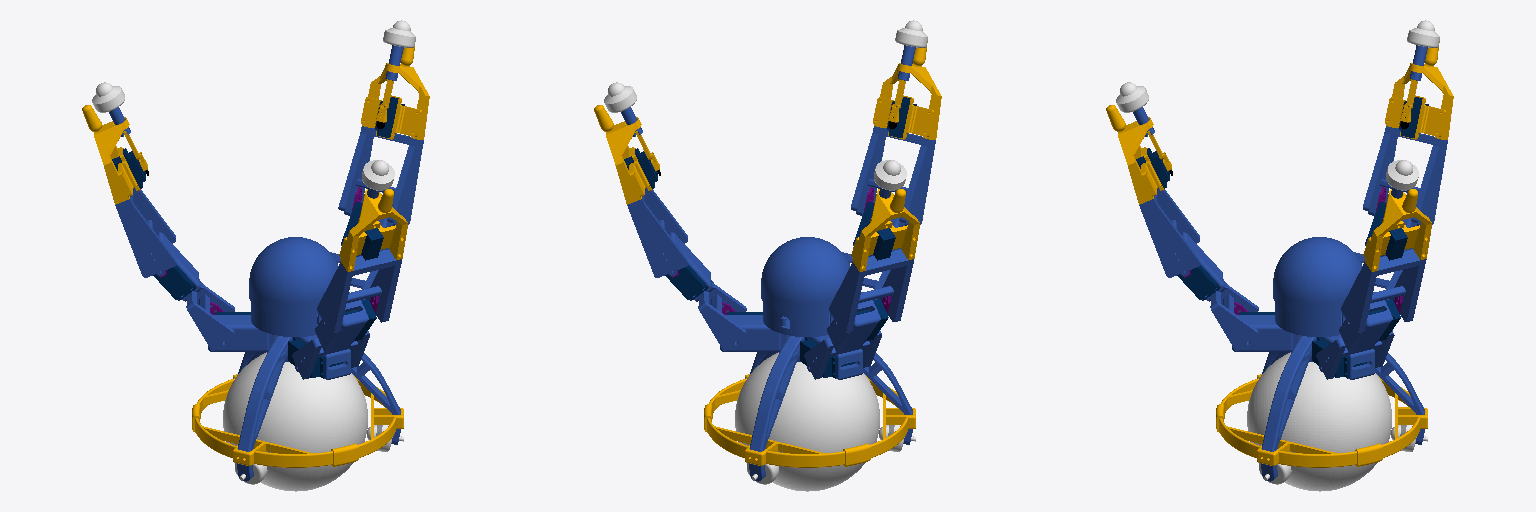
--- What the picture shows (computed from the rendered views, not written in the file) ---
The picture shows the robot from 3 angles, left to right: view 1: azimuth 30°, elevation 25°; view 2: azimuth 150°, elevation 25°; view 3: azimuth 270°, elevation 25°; orthographic projection.
Robot: skootr — 72 links, 71 joints (15 revolute, 4 continuous, 52 fixed); root link ball_root; default pose: all joints at 0.
Links seen in each view (by area): view 1: hemisphere_top, lid, leg2_link2_p1, leg3_link2_p1, leg1_link2_p1, third_ring, first_triconstraint, hemisphere_bottom, leg2_link2_p2, leg3_link1, third_servo_mount, electronics_platform (+13 smaller); view 2: hemisphere_top, lid, leg3_link2_p1, leg1_link2_p1, leg2_link2_p1, second_ring, third_triconstraint, hemisphere_bottom, leg3_link2_p2, leg1_link1, first_servo_mount, electronics_platform (+13 smaller); view 3: hemisphere_top, lid, leg1_link2_p1, leg2_link2_p1, leg3_link2_p1, first_ring, second_triconstraint, hemisphere_bottom, leg1_link2_p2, leg2_link1, second_servo_mount, electronics_platform (+13 smaller).
Link boxes in pixels (bbox=[...]): hemisphere_top: bbox=[223, 352, 367, 449]; lid: bbox=[249, 237, 338, 315]; leg2_link2_p1: bbox=[317, 249, 401, 333]; leg3_link2_p1: bbox=[115, 187, 175, 277]; leg1_link2_p1: bbox=[338, 126, 423, 225]; third_ring: bbox=[195, 418, 332, 467]; first_triconstraint: bbox=[237, 336, 292, 481]; hemisphere_bottom: bbox=[223, 423, 367, 491]; leg2_link2_p2: bbox=[340, 189, 407, 271]; leg3_link1: bbox=[186, 284, 234, 350]; third_servo_mount: bbox=[208, 315, 276, 351]; electronics_platform: bbox=[251, 303, 321, 336]; hemisphere_top: bbox=[735, 352, 879, 449]; lid: bbox=[761, 237, 850, 315]; leg3_link2_p1: bbox=[829, 249, 913, 333]; leg1_link2_p1: bbox=[627, 187, 687, 277]; leg2_link2_p1: bbox=[851, 126, 935, 225]; second_ring: bbox=[707, 418, 844, 467]; third_triconstraint: bbox=[749, 336, 804, 481]; hemisphere_bottom: bbox=[735, 423, 879, 491]; leg3_link2_p2: bbox=[852, 189, 919, 271]; leg1_link1: bbox=[698, 285, 746, 350]; first_servo_mount: bbox=[720, 315, 788, 351]; electronics_platform: bbox=[763, 303, 833, 336]; hemisphere_top: bbox=[1247, 352, 1391, 449]; lid: bbox=[1273, 237, 1362, 315]; leg1_link2_p1: bbox=[1341, 249, 1426, 333]; leg2_link2_p1: bbox=[1139, 187, 1199, 277]; leg3_link2_p1: bbox=[1363, 126, 1447, 225]; first_ring: bbox=[1219, 418, 1356, 467]; second_triconstraint: bbox=[1261, 336, 1316, 481]; hemisphere_bottom: bbox=[1247, 422, 1391, 491]; leg1_link2_p2: bbox=[1365, 189, 1431, 271]; leg2_link1: bbox=[1210, 284, 1258, 350]; second_servo_mount: bbox=[1232, 315, 1300, 351]; electronics_platform: bbox=[1275, 303, 1345, 336].
Bounding box of the posed robot: 0.511 × 0.4789 × 0.6021 m (x, y, z).
71 mesh visuals loaded from 24 distinct referenced files (24 binary STL).

The robot description file, URDF, robot "skootr":
<?xml version="1.0" ?>
<!-- =================================================================================== -->
<!-- |    This document was autogenerated by xacro from ./src/skootr_description/urdf/skootr.xacro | -->
<!-- |    EDITING THIS FILE BY HAND IS NOT RECOMMENDED                                 | -->
<!-- =================================================================================== -->
<robot name="skootr">
  <!-- Declare colors -->
  <material name="skootr_blue">
    <color rgba="0.231 0.380 0.706 1.0"/>
  </material>
  <material name="skootr_yellow">
    <color rgba="0.980 0.714 0.004 1.0"/>
  </material>
  <material name="skootr_silver">
    <color rgba="0.9176 0.9176 0.9176 1.0"/>
  </material>
  <material name="servo_blue">
    <color rgba="0.043 0.216 0.404 1.0"/>
  </material>
  <material name="horn_purple">
    <color rgba="0.490 0.086 0.557 1.0"/>
  </material>
  <link name="ball_root">
    <origin rpy="0.0 0.0 0.0" xyz="0.0 0.0 0.0"/>
    <inertial>
      <origin xyz="0.0 0.0 0.0" rpy="0.0 0.0 0.0"/>
      <mass value="0.00001"/>
      <inertia ixx="0.0" ixy="0.0" ixz="0.0" iyy="0.0" iyz="0.0" izz="0.0"/>
    </inertial>
    
  </link>
  <link name="ball_connector">
    <visual>
      <geometry>
        <mesh filename="meshes/frame/hemisphere_connector.stl" scale="0.001 0.001 0.001"/>
      </geometry>
    </visual>
    <collision>
      <geometry>
        <mesh filename="meshes/frame/hemisphere_connector.stl" scale="0.001 0.001 0.001"/>
      </geometry>
    </collision>
    <inertial>
      <origin rpy="0 0 0" xyz="0 -0.01951 0"/>
      <mass value="0.09480"/>
      <inertia ixx="2.64e-05" ixy="0" ixz="0" iyy="2.93e-05" iyz="0" izz="2.64e-05"/>
    </inertial>
  </link>
  <!-- joining ball_connector to dummy link -->
  <joint name="root_to_connector" type="continuous">
    <origin rpy="1.5707963267948966 0 0" xyz="0.0 0.0 0.0195"/>
    <parent link="ball_root"/>
    <child link="ball_connector"/>
    <axis xyz="1.0 1.0 1.0"/>
  </joint>
  <!-- top hemisphere -->
  <link name="hemisphere_top">
    <visual>
      <geometry>
        <mesh filename="meshes/frame/hemisphere.stl" scale="0.001 0.001 0.001"/>
      </geometry>
      <material name="skootr_silver"/>
    </visual>
    <collision>
      <geometry>
        <mesh filename="meshes/frame/hemisphere.stl" scale="0.001 0.001 0.001"/>
      </geometry>
    </collision>
    <inertial>
      <origin rpy="0 0 0" xyz="0 0.038176 0"/>
      <mass value="0.5179"/>
      <inertia ixx="0.0067228" ixy="0" ixz="0" iyy="0.0104325" iyz="0" izz="0.0067210"/>
    </inertial>
  </link>
  <link name="hemisphere_bottom">
    <visual>
      <geometry>
        <mesh filename="meshes/frame/hemisphere.stl" scale="0.001 0.001 0.001"/>
      </geometry>
      <material name="skootr_silver"/>
    </visual>
    <collision>
      <geometry>
        <mesh filename="meshes/frame/hemisphere.stl" scale="0.001 0.001 0.001"/>
      </geometry>
    </collision>
    <inertial>
      <origin rpy="0 0 0" xyz="0 0.038176 0"/>
      <mass value="0.5179"/>
      <inertia ixx="0.0067228" ixy="0" ixz="0" iyy="0.0104325" iyz="0" izz="0.0067210"/>
    </inertial>
  </link>
  <joint name="connector_to_top" type="fixed">
    <parent link="ball_connector"/>
    <child link="hemisphere_top"/>
    <origin rpy="0 0 0" xyz="0 -0.0195 0"/>
  </joint>
  <joint name="connector_to_bottom" type="fixed">
    <parent link="ball_connector"/>
    <child link="hemisphere_bottom"/>
    <origin rpy="3.14159265 0 0" xyz="0 -0.0195 0"/>
  </joint>
  <!-- ring constraint -->
  <link name="first_ring" type="fixed">
    <visual>
      <geometry>
        <mesh filename="meshes/frame/ringconstraint.stl" scale="0.001 0.001 0.001"/>
      </geometry>
      <material name="skootr_yellow"/>
    </visual>
    <collision>
      <geometry>
        <mesh filename="meshes/frame/ringconstraint.stl" scale="0.001 0.001 0.001"/>
      </geometry>
    </collision>
    <inertial>
      <origin rpy="0 0 0" xyz="0.09911 -0.05723 0.01130"/>
      <mass value="0.05080"/>
      <inertia ixx="1.62e-04" ixy="-8.22e-05" ixz="2.93e-07" iyy="6.64e-05" iyz="-2.93e-07" izz="2.25e-04"/>
    </inertial>
  </link>
  <link name="first_constraint_connector" type="fixed">
    <visual>
      <geometry>
        <mesh filename="meshes/frame/ringconstraint_connector.stl" scale="0.001 0.001 0.001"/>
      </geometry>
      <material name="skootr_yellow"/>
    </visual>
    <collision>
      <geometry>
        <mesh filename="meshes/frame/ringconstraint_connector.stl" scale="0.001 0.001 0.001"/>
      </geometry>
    </collision>
    <inertial>
      <origin rpy="0 0 0" xyz="0.1193 0.0678 0.0100"/>
      <mass value="0.00816"/>
      <!-- Converted from 0.018 lb to kg -->
      <inertia ixx="1.1663e-07" ixy="2.9155e-08" ixz="5.5703e-15" iyy="8.7475e-08" iyz="-6.9847e-15" izz="8.7475e-08"/>
    </inertial>
  </link>
  <link name="first_triconstraint" type="fixed">
    <visual>
      <geometry>
        <mesh filename="meshes/frame/triconstraint.stl" scale="0.001 0.001 0.001"/>
      </geometry>
      <material name="skootr_blue"/>
    </visual>
    <collision>
      <geometry>
        <mesh filename="meshes/frame/triconstraint.stl" scale="0.001 0.001 0.001"/>
      </geometry>
    </collision>
    <inertial>
      <origin rpy="0 0 0" xyz="-92.433 -4.332e-5 66.87"/>
      <mass value="0.06304"/>
      <!-- Converted from 0.139 lb to kg -->
      <inertia ixx="1.4480e-05" ixy="-7.4132e-10" ixz="-1.1539e-05" iyy="2.8523e-05" iyz="-8.5296e-10" izz="1.1518e-05"/>
    </inertial>
  </link>
  <link name="second_ring" type="fixed">
    <visual>
      <geometry>
        <mesh filename="meshes/frame/ringconstraint.stl" scale="0.001 0.001 0.001"/>
      </geometry>
      <material name="skootr_yellow"/>
    </visual>
    <collision>
      <geometry>
        <mesh filename="meshes/frame/ringconstraint.stl" scale="0.001 0.001 0.001"/>
      </geometry>
    </collision>
    <inertial>
      <origin rpy="0 0 0" xyz="0.09911 -0.05723 0.01130"/>
      <mass value="0.05080"/>
      <inertia ixx="1.62e-04" ixy="-8.22e-05" ixz="2.93e-07" iyy="6.64e-05" iyz="-2.93e-07" izz="2.25e-04"/>
    </inertial>
  </link>
  <link name="second_constraint_connector" type="fixed">
    <visual>
      <geometry>
        <mesh filename="meshes/frame/ringconstraint_connector.stl" scale="0.001 0.001 0.001"/>
      </geometry>
      <material name="skootr_yellow"/>
    </visual>
    <collision>
      <geometry>
        <mesh filename="meshes/frame/ringconstraint_connector.stl" scale="0.001 0.001 0.001"/>
      </geometry>
    </collision>
    <inertial>
      <origin rpy="0 0 0" xyz="0.1193 0.0678 0.0100"/>
      <mass value="0.00816"/>
      <!-- Converted from 0.018 lb to kg -->
      <inertia ixx="1.1663e-07" ixy="2.9155e-08" ixz="5.5703e-15" iyy="8.7475e-08" iyz="-6.9847e-15" izz="8.7475e-08"/>
    </inertial>
  </link>
  <link name="second_triconstraint" type="fixed">
    <visual>
      <geometry>
        <mesh filename="meshes/frame/triconstraint.stl" scale="0.001 0.001 0.001"/>
      </geometry>
      <material name="skootr_blue"/>
    </visual>
    <collision>
      <geometry>
        <mesh filename="meshes/frame/triconstraint.stl" scale="0.001 0.001 0.001"/>
      </geometry>
    </collision>
    <inertial>
      <origin rpy="0 0 0" xyz="-92.433 -4.332e-5 66.87"/>
      <mass value="0.06304"/>
      <!-- Converted from 0.139 lb to kg -->
      <inertia ixx="1.4480e-05" ixy="-7.4132e-10" ixz="-1.1539e-05" iyy="2.8523e-05" iyz="-8.5296e-10" izz="1.1518e-05"/>
    </inertial>
  </link>
  <link name="third_ring" type="fixed">
    <visual>
      <geometry>
        <mesh filename="meshes/frame/ringconstraint.stl" scale="0.001 0.001 0.001"/>
      </geometry>
      <material name="skootr_yellow"/>
    </visual>
    <collision>
      <geometry>
        <mesh filename="meshes/frame/ringconstraint.stl" scale="0.001 0.001 0.001"/>
      </geometry>
    </collision>
    <inertial>
      <origin rpy="0 0 0" xyz="0.09911 -0.05723 0.01130"/>
      <mass value="0.05080"/>
      <inertia ixx="1.62e-04" ixy="-8.22e-05" ixz="2.93e-07" iyy="6.64e-05" iyz="-2.93e-07" izz="2.25e-04"/>
    </inertial>
  </link>
  <link name="third_constraint_connector" type="fixed">
    <visual>
      <geometry>
        <mesh filename="meshes/frame/ringconstraint_connector.stl" scale="0.001 0.001 0.001"/>
      </geometry>
      <material name="skootr_yellow"/>
    </visual>
    <collision>
      <geometry>
        <mesh filename="meshes/frame/ringconstraint_connector.stl" scale="0.001 0.001 0.001"/>
      </geometry>
    </collision>
    <inertial>
      <origin rpy="0 0 0" xyz="0.1193 0.0678 0.0100"/>
      <mass value="0.00816"/>
      <!-- Converted from 0.018 lb to kg -->
      <inertia ixx="1.1663e-07" ixy="2.9155e-08" ixz="5.5703e-15" iyy="8.7475e-08" iyz="-6.9847e-15" izz="8.7475e-08"/>
    </inertial>
  </link>
  <link name="third_triconstraint" type="fixed">
    <visual>
      <geometry>
        <mesh filename="meshes/frame/triconstraint.stl" scale="0.001 0.001 0.001"/>
      </geometry>
      <material name="skootr_blue"/>
    </visual>
    <collision>
      <geometry>
        <mesh filename="meshes/frame/triconstraint.stl" scale="0.001 0.001 0.001"/>
      </geometry>
    </collision>
    <inertial>
      <origin rpy="0 0 0" xyz="-92.433 -4.332e-5 66.87"/>
      <mass value="0.06304"/>
      <!-- Converted from 0.139 lb to kg -->
      <inertia ixx="1.4480e-05" ixy="-7.4132e-10" ixz="-1.1539e-05" iyy="2.8523e-05" iyz="-8.5296e-10" izz="1.1518e-05"/>
    </inertial>
  </link>
  <link name="triconstraint_hub" type="fixed">
    <visual>
      <geometry>
        <mesh filename="meshes/frame/triconstraint_hub.stl" scale="0.001 0.001 0.001"/>
      </geometry>
      <material name="skootr_blue"/>
    </visual>
    <collision>
      <geometry>
        <mesh filename="meshes/frame/triconstraint_hub.stl" scale="0.001 0.001 0.001"/>
      </geometry>
    </collision>
    <inertial>
      <origin rpy="0 0 0" xyz="-5.567e-6 4.586e-6 0.147149"/>
      <mass value="0.02812"/>
      <!-- Converted from 0.062 lb to kg -->
      <inertia ixx="6.5828e-06" ixy="1.6232e-09" ixz="-1.0979e-09" iyy="6.5828e-06" iyz="8.1455e-10" izz="1.3122e-05"/>
    </inertial>
  </link>
  <joint name="first_ring_to_ball" type="fixed">
    <origin rpy="0.0 0.0 0.0" xyz="0.0 0.0 -0.00975"/>
    <parent link="ball_root"/>
    <child link="first_ring"/>
  </joint>
  <joint name="first_ring_to_connector" type="fixed">
    <origin rpy="0.0 0.0 0.0" xyz="0.0 0.0 -0.00975"/>
    <parent link="ball_root"/>
    <child link="first_constraint_connector"/>
  </joint>
  <joint name="first_triconstraint_to_connector" type="fixed">
    <origin rpy="0.0 0.0 0.5235987755982988" xyz="0.0 0.0 0.00975"/>
    <parent link="first_ring"/>
    <child link="first_triconstraint"/>
  </joint>
  <joint name="second_ring_to_ball" type="fixed">
    <origin rpy="0.0 0.0 2.0943951023931953" xyz="0.0 0.0 -0.00975"/>
    <parent link="ball_root"/>
    <child link="second_ring"/>
  </joint>
  <joint name="second_ring_to_connector" type="fixed">
    <origin rpy="0.0 0.0 2.0943951023931953" xyz="0.0 0.0 -0.00975"/>
    <parent link="ball_root"/>
    <child link="second_constraint_connector"/>
  </joint>
  <joint name="second_triconstraint_to_connector" type="fixed">
    <origin rpy="0.0 0.0 0.5235987755982988" xyz="0.0 0.0 0.00975"/>
    <parent link="second_ring"/>
    <child link="second_triconstraint"/>
  </joint>
  <joint name="third_ring_to_ball" type="fixed">
    <origin rpy="0.0 0.0 4.1887902047863905" xyz="0.0 0.0 -0.00975"/>
    <parent link="ball_root"/>
    <child link="third_ring"/>
  </joint>
  <joint name="third_ring_to_connector" type="fixed">
    <origin rpy="0.0 0.0 4.1887902047863905" xyz="0.0 0.0 -0.00975"/>
    <parent link="ball_root"/>
    <child link="third_constraint_connector"/>
  </joint>
  <joint name="third_triconstraint_to_connector" type="fixed">
    <origin rpy="0.0 0.0 0.5235987755982988" xyz="0.0 0.0 0.00975"/>
    <parent link="third_ring"/>
    <child link="third_triconstraint"/>
  </joint>
  <joint name="triconstraints_to_hub" type="fixed">
    <origin rpy="0.0 0.0 0.5235987755982988" xyz="0.0 0.0 0.0"/>
    <parent link="ball_root"/>
    <child link="triconstraint_hub"/>
  </joint>
  <link name="metal_bearing">
    <visual>
      <geometry>
        <mesh filename="meshes/non_printed/metal_bearing.stl" scale="0.001 0.001 0.001"/>
      </geometry>
      <material name="skootr_silver"/>
    </visual>
    <collision>
      <geometry>
        <mesh filename="meshes/non_printed/metal_bearing.stl" scale="0.001 0.001 0.001"/>
      </geometry>
    </collision>
    <inertial>
      <origin rpy="0 0 0" xyz="0 0.01198 0"/>
      <mass value="0.0957"/>
      <!-- Converted from 0.211 lb to kg -->
      <inertia ixx="1.629e-05" ixy="0" ixz="0" iyy="1.979e-05" iyz="0" izz="1.629e-05"/>
    </inertial>
  </link>
  <link name="first_metal_bearing">
    <visual>
      <geometry>
        <mesh filename="meshes/non_printed/metal_bearing.stl" scale="0.001 0.001 0.001"/>
      </geometry>
      <material name="skootr_silver"/>
    </visual>
    <collision>
      <geometry>
        <mesh filename="meshes/non_printed/metal_bearing.stl" scale="0.001 0.001 0.001"/>
      </geometry>
    </collision>
    <inertial>
      <origin rpy="0 0 0" xyz="0 0.01198 0"/>
      <mass value="0.0957"/>
      <!-- Converted from 0.211 lb to kg -->
      <inertia ixx="1.629e-05" ixy="0" ixz="0" iyy="1.979e-05" iyz="0" izz="1.629e-05"/>
    </inertial>
  </link>
  <link name="second_metal_bearing">
    <visual>
      <geometry>
        <mesh filename="meshes/non_printed/metal_bearing.stl" scale="0.001 0.001 0.001"/>
      </geometry>
      <material name="skootr_silver"/>
    </visual>
    <collision>
      <geometry>
        <mesh filename="meshes/non_printed/metal_bearing.stl" scale="0.001 0.001 0.001"/>
      </geometry>
    </collision>
    <inertial>
      <origin rpy="0 0 0" xyz="0 0.01198 0"/>
      <mass value="0.0957"/>
      <!-- Converted from 0.211 lb to kg -->
      <inertia ixx="1.629e-05" ixy="0" ixz="0" iyy="1.979e-05" iyz="0" izz="1.629e-05"/>
    </inertial>
  </link>
  <link name="third_metal_bearing">
    <visual>
      <geometry>
        <mesh filename="meshes/non_printed/metal_bearing.stl" scale="0.001 0.001 0.001"/>
      </geometry>
      <material name="skootr_silver"/>
    </visual>
    <collision>
      <geometry>
        <mesh filename="meshes/non_printed/metal_bearing.stl" scale="0.001 0.001 0.001"/>
      </geometry>
    </collision>
    <inertial>
      <origin rpy="0 0 0" xyz="0 0.01198 0"/>
      <mass value="0.0957"/>
      <!-- Converted from 0.211 lb to kg -->
      <inertia ixx="1.629e-05" ixy="0" ixz="0" iyy="1.979e-05" iyz="0" izz="1.629e-05"/>
    </inertial>
  </link>
  <link name="servo_hub_bottom" type="fixed">
    <visual>
      <geometry>
        <mesh filename="meshes/frame/servo_hub_bottom.stl" scale="0.001 0.001 0.001"/>
      </geometry>
      <material name="skootr_blue"/>
    </visual>
    <collision>
      <geometry>
        <mesh filename="meshes/frame/servo_hub_bottom.stl" scale="0.001 0.001 0.001"/>
      </geometry>
    </collision>
    <inertial>
      <origin rpy="0 0 0" xyz="0 0 0.005"/>
      <mass value="0.03447"/>
      <!-- Converted from 0.076 lb to kg -->
      <inertia ixx="1.858e-05" ixy="0" ixz="0" iyy="1.858e-05" iyz="0" izz="3.690e-05"/>
    </inertial>
  </link>
  <joint name="hub_to_bearing" type="fixed">
    <origin rpy="-1.5707963267948966 0.0 0.0" xyz="0.0 0.0 0.138835"/>
    <parent link="triconstraint_hub"/>
    <child link="metal_bearing"/>
  </joint>
  <joint name="first_triconstraint_to_bearing" type="fixed">
    <origin rpy="0.20 0.0 -1.5707963267948966" xyz="-0.1322 0.0 -0.0274574"/>
    <parent link="first_triconstraint"/>
    <child link="first_metal_bearing"/>
  </joint>
  <joint name="second_triconstraint_to_bearing" type="fixed">
    <origin rpy="0.20 0.0 -1.5707963267948966" xyz="-0.1322 0.0 -0.0274574"/>
    <parent link="second_triconstraint"/>
    <child link="second_metal_bearing"/>
  </joint>
  <joint name="third_triconstraint_to_bearing" type="fixed">
    <origin rpy="0.20 0.0 -1.5707963267948966" xyz="-0.1322 0.0 -0.0274574"/>
    <parent link="third_triconstraint"/>
    <child link="third_metal_bearing"/>
  </joint>
  <joint name="triconstraint_to_bottomhubs" type="fixed">
    <origin rpy="0.0 0.0 0.0" xyz="0.0 0.0 0.103912"/>
    <parent link="first_triconstraint"/>
    <child link="servo_hub_bottom"/>
  </joint>
  <!-- Servo -->
  <link name="first_servo">
    <visual>
      <geometry>
        <mesh filename="meshes/non_printed/60_kg_servo.stl" scale="0.001 0.001 0.001"/>
      </geometry>
      <material name="servo_blue"/>
    </visual>
    <collision>
      <geometry>
        <mesh filename="meshes/non_printed/60_kg_servo.stl" scale="0.001 0.001 0.001"/>
      </geometry>
    </collision>
    <inertial>
      <origin rpy="0 0 0" xyz="2.7e-5 0 2.02e-4"/>
      <mass value="0.2577"/>
      <!-- Converted from 0.568 lb to kg -->
      <inertia ixx="6.3523e-05" ixy="0" ixz="-1.7854e-07" iyy="1.3415e-04" iyz="0" izz="1.1411e-04"/>
    </inertial>
  </link>
  <link name="second_servo">
    <visual>
      <geometry>
        <mesh filename="meshes/non_printed/60_kg_servo.stl" scale="0.001 0.001 0.001"/>
      </geometry>
      <material name="servo_blue"/>
    </visual>
    <collision>
      <geometry>
        <mesh filename="meshes/non_printed/60_kg_servo.stl" scale="0.001 0.001 0.001"/>
      </geometry>
    </collision>
    <inertial>
      <origin rpy="0 0 0" xyz="2.7e-5 0 2.02e-4"/>
      <mass value="0.2577"/>
      <!-- Converted from 0.568 lb to kg -->
      <inertia ixx="6.3523e-05" ixy="0" ixz="-1.7854e-07" iyy="1.3415e-04" iyz="0" izz="1.1411e-04"/>
    </inertial>
  </link>
  <link name="third_servo">
    <visual>
      <geometry>
        <mesh filename="meshes/non_printed/60_kg_servo.stl" scale="0.001 0.001 0.001"/>
      </geometry>
      <material name="servo_blue"/>
    </visual>
    <collision>
      <geometry>
        <mesh filename="meshes/non_printed/60_kg_servo.stl" scale="0.001 0.001 0.001"/>
      </geometry>
    </collision>
    <inertial>
      <origin rpy="0 0 0" xyz="2.7e-5 0 2.02e-4"/>
      <mass value="0.2577"/>
      <!-- Converted from 0.568 lb to kg -->
      <inertia ixx="6.3523e-05" ixy="0" ixz="-1.7854e-07" iyy="1.3415e-04" iyz="0" izz="1.1411e-04"/>
    </inertial>
  </link>
  <link name="first_servo_mount">
    <visual>
      <geometry>
        <mesh filename="meshes/frame/servo_mount_60kg.stl" scale="0.001 0.001 0.001"/>
      </geometry>
      <material name="skootr_blue"/>
    </visual>
    <collision>
      <geometry>
        <mesh filename="meshes/frame/servo_mount_60kg.stl" scale="0.001 0.001 0.001"/>
      </geometry>
    </collision>
    <inertial>
      <origin rpy="0 0 0" xyz="-9.261e-7 -0.004547 0.010341"/>
      <mass value="0.0893"/>
      <!-- Converted from 0.197 lb to kg -->
      <inertia ixx="8.5327e-05" ixy="2.9828e-08" ixz="-1.0904e-08" iyy="2.7098e-05" iyz="1.4128e-06" izz="8.8359e-05"/>
    </inertial>
  </link>
  <link name="second_servo_mount">
    <visual>
      <geometry>
        <mesh filename="meshes/frame/servo_mount_60kg.stl" scale="0.001 0.001 0.001"/>
      </geometry>
      <material name="skootr_blue"/>
    </visual>
    <collision>
      <geometry>
        <mesh filename="meshes/frame/servo_mount_60kg.stl" scale="0.001 0.001 0.001"/>
      </geometry>
    </collision>
    <inertial>
      <origin rpy="0 0 0" xyz="-9.261e-7 -0.004547 0.010341"/>
      <mass value="0.0893"/>
      <!-- Converted from 0.197 lb to kg -->
      <inertia ixx="8.5327e-05" ixy="2.9828e-08" ixz="-1.0904e-08" iyy="2.7098e-05" iyz="1.4128e-06" izz="8.8359e-05"/>
    </inertial>
  </link>
  <link name="third_servo_mount">
    <visual>
      <geometry>
        <mesh filename="meshes/frame/servo_mount_60kg.stl" scale="0.001 0.001 0.001"/>
      </geometry>
      <material name="skootr_blue"/>
    </visual>
    <collision>
      <geometry>
        <mesh filename="meshes/frame/servo_mount_60kg.stl" scale="0.001 0.001 0.001"/>
      </geometry>
    </collision>
    <inertial>
      <origin rpy="0 0 0" xyz="-9.261e-7 -0.004547 0.010341"/>
      <mass value="0.0893"/>
      <!-- Converted from 0.197 lb to kg -->
      <inertia ixx="8.5327e-05" ixy="2.9828e-08" ixz="-1.0904e-08" iyy="2.7098e-05" iyz="1.4128e-06" izz="8.8359e-05"/>
    </inertial>
  </link>
  <joint name="first_servo_to_slot" type="fixed">
    <origin rpy="0.0 0.0 1.5707963267948966" xyz="0.0 0.0 0.0278"/>
    <parent link="first_servo_mount"/>
    <child link="first_servo"/>
  </joint>
  <joint name="second_servo_to_slot" type="fixed">
    <origin rpy="0.0 0.0 1.5707963267948966" xyz="0.0 0.0 0.0278"/>
    <parent link="second_servo_mount"/>
    <child link="second_servo"/>
  </joint>
  <joint name="third_servo_to_slot" type="fixed">
    <origin rpy="0.0 0.0 1.5707963267948966" xyz="0.0 0.0 0.0278"/>
    <parent link="third_servo_mount"/>
    <child link="third_servo"/>
  </joint>
  <joint name="first_servo_to_hub" type="fixed">
    <origin rpy="0.0 1.5707963267948966 -1.5707963267948966" xyz="0.078 0.014 0.026"/>
    <parent link="servo_hub_bottom"/>
    <child link="first_servo_mount"/>
  </joint>
  <joint name="second_servo_to_hub" type="fixed">
    <origin rpy="0.0 1.5707963267948966 2.617993877991494" xyz="-0.027 -0.0745 0.026"/>
    <parent link="servo_hub_bottom"/>
    <child link="second_servo_mount"/>
  </joint>
  <joint name="third_servo_to_hub" type="fixed">
    <origin rpy="0.0 1.5707963267948966 0.5235987755982989" xyz="-0.051 0.0605 0.026"/>
    <parent link="servo_hub_bottom"/>
    <child link="third_servo_mount"/>
  </joint>
  <!-- connecting with legs, adding horn -->
  <link name="first_servo_horn">
    <visual>
      <geometry>
        <mesh filename="meshes/non_printed/18T_servo_horn.stl" scale="0.001 0.001 0.001"/>
      </geometry>
      <material name="horn_purple"/>
    </visual>
    <collision>
      <geometry>
        <mesh filename="meshes/non_printed/18T_servo_horn.stl" scale="0.001 0.001 0.001"/>
      </geometry>
    </collision>
    <inertial>
      <origin rpy="0 0 0" xyz="0 -0.0105 0.002"/>
      <mass value="0.0059"/>
      <!-- Converted from 0.013 lb to kg -->
      <inertia ixx="8.7107e-07" ixy="0" ixz="0" iyy="1.0047e-07" iyz="0" izz="8.7107e-07"/>
    </inertial>
  </link>
  <link name="second_servo_horn">
    <visual>
      <geometry>
        <mesh filename="meshes/non_printed/18T_servo_horn.stl" scale="0.001 0.001 0.001"/>
      </geometry>
      <material name="horn_purple"/>
    </visual>
    <collision>
      <geometry>
        <mesh filename="meshes/non_printed/18T_servo_horn.stl" scale="0.001 0.001 0.001"/>
      </geometry>
    </collision>
    <inertial>
      <origin rpy="0 0 0" xyz="0 -0.0105 0.002"/>
      <mass value="0.0059"/>
      <!-- Converted from 0.013 lb to kg -->
      <inertia ixx="8.7107e-07" ixy="0" ixz="0" iyy="1.0047e-07" iyz="0" izz="8.7107e-07"/>
    </inertial>
  </link>
  <link name="third_servo_horn">
    <visual>
      <geometry>
        <mesh filename="meshes/non_printed/18T_servo_horn.stl" scale="0.001 0.001 0.001"/>
      </geometry>
      <material name="horn_purple"/>
    </visual>
    <collision>
      <geometry>
        <mesh filename="meshes/non_printed/18T_servo_horn.stl" scale="0.001 0.001 0.001"/>
      </geometry>
    </collision>
    <inertial>
      <origin rpy="0 0 0" xyz="0 -0.0105 0.002"/>
      <mass value="0.0059"/>
      <!-- Converted from 0.013 lb to kg -->
      <inertia ixx="8.7107e-07" ixy="0" ixz="0" iyy="1.0047e-07" iyz="0" izz="8.7107e-07"/>
    </inertial>
  </link>
  <joint name="first_servo_to_horn" type="revolute">
    <origin rpy="0 0 2.4434609527948967" xyz="0.019 -0.0 0.0245"/>
    <axis xyz="0 0 -1"/>
    <parent link="first_servo"/>
    <child link="first_servo_horn"/>
    <limit effort="1000" lower="-0" upper="1.187" velocity="1"/>
  </joint>
  <joint name="second_servo_to_horn" type="revolute">
    <origin rpy="0 0 2.4434609527948967" xyz="0.019 -0.0 0.0245"/>
    <axis xyz="0 0 -1"/>
    <parent link="second_servo"/>
    <child link="second_servo_horn"/>
    <limit effort="1000" lower="-0" upper="1.187" velocity="1"/>
  </joint>
  <joint name="third_servo_to_horn" type="revolute">
    <origin rpy="0 0 2.4434609527948967" xyz="0.019 -0.0 0.0245"/>
    <axis xyz="0 0 -1"/>
    <parent link="third_servo"/>
    <child link="third_servo_horn"/>
    <limit effort="1000" lower="-0" upper="1.187" velocity="1"/>
  </joint>
  <!-- electronics -->
  <link name="electronics_platform">
    <visual>
      <geometry>
        <mesh filename="meshes/frame/electronics_platform.stl" scale="0.001 0.001 0.001"/>
      </geometry>
      <material name="skootr_blue"/>
    </visual>
    <collision>
      <geometry>
        <mesh filename="meshes/frame/electronics_platform.stl" scale="0.001 0.001 0.001"/>
      </geometry>
    </collision>
    <inertial>
      <origin rpy="0 0 0" xyz="0.000381 -0.000483 -0.01667"/>
      <mass value="0.0984"/>
      <!-- Converted from 0.217 lb to kg -->
      <inertia ixx="1.859e-04" ixy="2.904e-07" ixz="-1.193e-07" iyy="1.833e-04" iyz="2.904e-07" izz="2.894e-04"/>
    </inertial>
  </link>
  <link name="lid">
    <visual>
      <geometry>
        <mesh filename="meshes/frame/lid.stl" scale="0.001 0.001 0.001"/>
      </geometry>
      <material name="skootr_blue"/>
    </visual>
    <collision>
      <geometry>
        <mesh filename="meshes/frame/lid.stl" scale="0.001 0.001 0.001"/>
      </geometry>
    </collision>
    <inertial>
      <origin rpy="0 0 0" xyz="0 0 -0.021475"/>
      <mass value="0.0821"/>
      <!-- Converted from 0.181 lb to kg -->
      <inertia ixx="1.564e-04" ixy="0" ixz="0" iyy="1.564e-04" iyz="0" izz="2.256e-04"/>
    </inertial>
  </link>
  <joint name="triconstraint_hub_to_electronics_platform" type="fixed">
    <origin rpy="0.0 3.141592653589793 0.5235987755982988" xyz="0.0 -0.0 0.156"/>
    <parent link="triconstraint_hub"/>
    <child link="electronics_platform"/>
  </joint>
  <joint name="electronics_platform_to_lid" type="fixed">
    <origin rpy="0.0 0.0 0.0" xyz="0.0 -0.0 -0.05"/>
    <parent link="electronics_platform"/>
    <child link="lid"/>
  </joint>
  <!-- link2 -->
  <link name="leg1_link2_p1">
    <visual>
      <geometry>
        <mesh filename="meshes/legs/link2p1.stl" scale="0.001 0.001 0.001"/>
      </geometry>
      <material name="leg1_link2_p1_blue">
        <color rgba="0.231 0.380 0.706 1.0"/>
      </material>
    </visual>
    <collision>
      <geometry>
        <mesh filename="meshes/legs/link2p1.stl" scale="0.001 0.001 0.001"/>
      </geometry>
    </collision>
    <inertial>
      <origin rpy="0 0 0" xyz="-0.0621 2.54e-5 0.003429"/>
      <mass value="0.1293"/>
      <!-- Converted from 0.285 lb to kg -->
      <inertia ixx="1.764e-04" ixy="-2.119e-08" ixz="-8.423e-06" iyy="1.867e-04" iyz="-8.423e-09" izz="5.007e-04"/>
    </inertial>
  </link>
  <link name="leg1_link2_p2">
    <visual>
      <geometry>
        <mesh filename="meshes/legs/link2p2.stl" scale="0.001 0.001 0.001"/>
      </geometry>
      <material name="leg1_link2_p2_yellow">
        <color rgba="0.980 0.714 0.004 1.0"/>
      </material>
    </visual>
    <collision>
      <geometry>
        <mesh filename="meshes/legs/link2p2.stl" scale="0.001 0.001 0.001"/>
      </geometry>
    </collision>
    <inertial>
      <origin rpy="0 0 0" xyz="-0.1733 0 0.00907"/>
      <mass value="0.0558"/>
      <!-- Converted from 0.123 lb to kg -->
      <inertia ixx="6.069e-05" ixy="2.948e-13" ixz="1.421e-05" iyy="8.219e-05" iyz="-1.754e-13" izz="1.873e-04"/>
    </inertial>
  </link>
  <link name="leg1_link2_p3">
    <visual>
      <geometry>
        <mesh filename="meshes/legs/link2p3.stl" scale="0.001 0.001 0.001"/>
      </geometry>
      <material name="leg1_link2_p3_yellow">
        <color rgba="0.980 0.714 0.004 1.0"/>
      </material>
    </visual>
    <collision>
      <geometry>
        <mesh filename="meshes/legs/link2p3.stl" scale="0.001 0.001 0.001"/>
      </geometry>
    </collision>
    <inertial>
      <origin rpy="0 0 0" xyz="0 0 -0.017123"/>
      <mass value="0.01089"/>
      <!-- Converted from 0.024 lb to kg -->
      <inertia ixx="1.505e-06" ixy="0" ixz="0" iyy="1.505e-06" iyz="0" izz="3.393e-07"/>
    </inertial>
  </link>
  <joint name="leg1_link2_p1_to_p2" type="fixed">
    <origin rpy="0.0 0.0 0.0" xyz="0.0 0.0 0.0"/>
    <parent link="leg1_link2_p1"/>
    <child link="leg1_link2_p2"/>
  </joint>
  <joint name="leg1_link2_p2_to_p3" type="fixed">
    <origin rpy="0.0 1.5707963267948966 0.0" xyz="-0.220 0.0 0.006"/>
    <parent link="leg1_link2_p2"/>
    <child link="leg1_link2_p3"/>
  </joint>
  <link name="leg1_pusher_servo_mount">
    <visual>
      <geometry>
        <mesh filename="meshes/legs/pusher_servo_mount.stl" scale="0.001 0.001 0.001"/>
      </geometry>
      <material name="leg1_pusher_servo_mount_yellow">
        <color rgba="0.980 0.714 0.004 1.0"/>
      </material>
    </visual>
    <collision>
      <geometry>
        <mesh filename="meshes/legs/pusher_servo_mount.stl" scale="0.001 0.001 0.001"/>
      </geometry>
    </collision>
    <inertial>
      <origin rpy="0 0 0" xyz="0 0 0.00509"/>
      <mass value="0.02676"/>
      <!-- Converted from 0.059 lb to kg -->
      <inertia ixx="4.583e-06" ixy="-2.610e-08" ixz="0" iyy="1.544e-05" iyz="0" izz="1.939e-05"/>
    </inertial>
  </link>
  <joint name="leg1_pusher_servo_mount_to_link2" type="fixed">
    <origin rpy="0.0 0.0 1.5707963267948966" xyz="-0.147 0.0 0.012"/>
    <parent link="leg1_link2_p2"/>
    <child link="leg1_pusher_servo_mount"/>
  </joint>
  <link name="leg1_pusher_servo">
    <visual>
      <geometry>
        <mesh filename="meshes/non_printed/pusher_servo.stl" scale="0.001 0.001 0.001"/>
      </geometry>
      <material name="leg1_pusher_servo_blue">
        <color rgba="0.043 0.216 0.404 1.0"/>
      </material>
    </visual>
    <collision>
      <geometry>
        <mesh filename="meshes/non_printed/pusher_servo.stl" scale="0.001 0.001 0.001"/>
      </geometry>
    </collision>
    <inertial>
      <origin rpy="0 0 0" xyz="2.7e-5 0 2.02e-4"/>
      <mass value="0.2577"/>
      <!-- Converted from 0.568 lb to kg -->
      <inertia ixx="6.3523e-05" ixy="0" ixz="-1.7854e-07" iyy="1.3415e-04" iyz="0" izz="1.1411e-04"/>
    </inertial>
  </link>
  <joint name="leg1_pusher_servo_to_mount" type="fixed">
    <origin rpy="0.0 0.0 -1.5707963267948966" xyz="0.01 -0.0 0.0096"/>
    <parent link="leg1_pusher_servo_mount"/>
    <child link="leg1_pusher_servo"/>
  </joint>
  <!-- link1 -->
  <link name="servo_leg1_link1">
    <visual>
      <geometry>
        <mesh filename="meshes/non_printed/60_kg_servo.stl" scale="0.001 0.001 0.001"/>
      </geometry>
      <material name="servo_leg1_link1_blue">
        <color rgba="0.043 0.216 0.404 1.0"/>
      </material>
    </visual>
    <collision>
      <geometry>
        <mesh filename="meshes/non_printed/60_kg_servo.stl" scale="0.001 0.001 0.001"/>
      </geometry>
    </collision>
    <inertial>
      <origin rpy="0 0 0" xyz="2.7e-5 0 2.02e-4"/>
      <mass value="0.2577"/>
      <!-- Converted from 0.568 lb to kg -->
      <inertia ixx="6.3523e-05" ixy="0" ixz="-1.7854e-07" iyy="1.3415e-04" iyz="0" izz="1.1411e-04"/>
    </inertial>
  </link>
  <link name="servo_mount_leg1_link1">
    <visual>
      <geometry>
        <mesh filename="meshes/legs/servo_mount_slotted_60kg.stl" scale="0.001 0.001 0.001"/>
      </geometry>
      <material name="servo_mount_leg1_link1_blue">
        <color rgba="0.231 0.380 0.706 1.0"/>
      </material>
    </visual>
    <collision>
      <geometry>
        <mesh filename="meshes/legs/servo_mount_slotted_60kg.stl" scale="0.001 0.001 0.001"/>
      </geometry>
    </collision>
    <inertial>
      <origin rpy="0 0 0" xyz="-8.34e-7 -0.003997 0.010335"/>
      <mass value="0.0885"/>
      <!-- Converted from 0.195 lb to kg -->
      <inertia ixx="8.314e-05" ixy="4.975e-08" ixz="4.666e-09" iyy="2.774e-05" iyz="1.256e-06" izz="8.654e-05"/>
    </inertial>
  </link>
  <joint name="leg1_link1_servo_to_mount" type="fixed">
    <origin rpy="0.0 0.0 1.5707963267948966" xyz="0.0 0.0 0.0278"/>
    <parent link="servo_mount_leg1_link1"/>
    <child link="servo_leg1_link1"/>
  </joint>
  <link name="leg1_link1">
    <visual>
      <geometry>
        <mesh filename="meshes/legs/link1.stl" scale="0.001 0.001 0.001"/>
      </geometry>
      <material name="leg1_link1_blue">
        <color rgba="0.231 0.380 0.706 1.0"/>
      </material>
    </visual>
    <collision>
      <geometry>
        <mesh filename="meshes/legs/link1.stl" scale="0.001 0.001 0.001"/>
      </geometry>
    </collision>
    <inertial>
      <origin rpy="0 0 0" xyz="-0.0416 0.000229 0.00599"/>
      <mass value="0.0685"/>
      <!-- Converted from 0.151 lb to kg -->
      <inertia ixx="8.657e-05" ixy="5.807e-07" ixz="-1.833e-13" iyy="3.632e-05" iyz="1.345e-14" izz="1.147e-04"/>
    </inertial>
  </link>
  <joint name="leg1_link1_to_servo" type="fixed">
    <origin rpy="0.0 1.5707963267948966 1.5707963267948966" xyz="-0.123 -0.031 0.0065"/>
    <parent link="leg1_link1"/>
    <child link="servo_mount_leg1_link1"/>
  </joint>
  <!-- horn -->
  <link name="leg1_horn_sleeve">
    <visual>
      <geometry>
        <mesh filename="meshes/legs/horn_sleeve.stl" scale="0.001 0.001 0.001"/>
      </geometry>
      <material name="leg1_horn_sleeve_yellow">
        <color rgba="0.980 0.714 0.004 1.0"/>
      </material>
    </visual>
    <collision>
      <geometry>
        <mesh filename="meshes/legs/horn_sleeve.stl" scale="0.001 0.001 0.001"/>
      </geometry>
    </collision>
    <inertial>
      <origin rpy="0 0 0" xyz="0.0105 0 0.0032"/>
      <mass value="0.00136"/>
      <!-- Converted from 0.003 lb to kg -->
      <inertia ixx="2.231e-08" ixy="0" ixz="3.528e-09" iyy="6.996e-08" iyz="0" izz="7.931e-08"/>
    </inertial>
  </link>
  <link name="leg1_actuator_arm">
    <visual>
      <geometry>
        <mesh filename="meshes/legs/actuator_arm.stl" scale="0.001 0.001 0.001"/>
      </geometry>
      <material name="leg1_actuator_arm_yellow">
        <color rgba="0.980 0.714 0.004 1.0"/>
      </material>
    </visual>
    <collision>
      <geometry>
        <mesh filename="meshes/legs/actuator_arm.stl" scale="0.001 0.001 0.001"/>
      </geometry>
    </collision>
    <inertial>
      <origin rpy="0 0 0" xyz="0 -0.00246 -0.02169"/>
      <mass value="0.00227"/>
      <!-- Converted from 0.005 lb to kg -->
      <inertia ixx="2.904e-07" ixy="0" ixz="0" iyy="2.904e-07" iyz="-1.516e-09" izz="1.669e-08"/>
    </inertial>
  </link>
  <link name="leg1_pusher_servo_horn">
    <visual>
      <geometry>
        <mesh filename="meshes/non_printed/pusher_servo_horn.stl" scale="0.001 0.001 0.001"/>
      </geometry>
      <material name="leg1_pusher_servo_horn_black">
        <color rgba="0.0 0.0 0.0 1.0"/>
      </material>
    </visual>
    <collision>
      <geometry>
        <mesh filename="meshes/non_printed/pusher_servo_horn.stl" scale="0.001 0.001 0.001"/>
      </geometry>
    </collision>
    <inertial>
      <origin rpy="0 0 0" xyz="0 0.000381 0.000991"/>
      <mass value="0.000907"/>
      <!-- Converted from 0.002 lb to kg -->
      <inertia ixx="4.566e-08" ixy="0" ixz="0" iyy="7.847e-09" iyz="0" izz="5.278e-08"/>
    </inertial>
  </link>
  <link name="leg1_sliding_cylinder">
    <visual>
      <geometry>
        <mesh filename="meshes/legs/sliding_cylinder.stl" scale="0.001 0.001 0.001"/>
      </geometry>
      <material name="leg1_sliding_cylinder_blue">
        <color rgba="0.231 0.380 0.706 1.0"/>
      </material>
    </visual>
    <collision>
      <geometry>
        <mesh filename="meshes/legs/sliding_cylinder.stl" scale="0.001 0.001 0.001"/>
      </geometry>
    </collision>
    <inertial>
      <origin rpy="0 0 0" xyz="1.958e-9 -0.01674 2.54e-5"/>
      <mass value="0.00998"/>
      <!-- Converted from 0.022 lb to kg -->
      <inertia ixx="1.747e-06" ixy="-1.879e-10" ixz="-4.794e-09" iyy="2.903e-07" iyz="-1.288e-09" izz="1.747e-06"/>
    </inertial>
  </link>
  <link name="leg1_wheels">
    <visual>
      <geometry>
        <mesh filename="meshes/non_printed/metal_bearing.stl" scale="0.001 0.001 0.001"/>
      </geometry>
      <material name="leg1_wheels_silver">
        <color rgba="0.9176 0.9176 0.9176 1.0"/>
      </material>
    </visual>
    <collision>
      <geometry>
        <mesh filename="meshes/non_printed/metal_bearing.stl" scale="0.001 0.001 0.001"/>
      </geometry>
    </collision>
    <inertial>
      <origin rpy="0 0 0" xyz="0 0.01198 0"/>
      <mass value="0.0957"/>
      <!-- Converted from 0.211 lb to kg -->
      <inertia ixx="1.629e-05" ixy="0" ixz="0" iyy="1.979e-05" iyz="0" izz="1.629e-05"/>
    </inertial>
  </link>
  <joint name="leg1_servo_to_horn" type="revolute">
    <origin rpy="0.0 0.0 1.5707963267948966" xyz="0.0075 -0.01 0.02"/>
    <parent link="leg1_pusher_servo"/>
    <child link="leg1_pusher_servo_horn"/>
    <axis xyz="0.0 0.0 1.0"/>
    <limit effort="1000" lower="-1.5707963267948966" upper="1.5707963267948966" velocity="1.0"/>
  </joint>
  <joint name="leg1_servo_horn_to_sleeve" type="fixed">
    <origin rpy="3.141592653589793 0.0 1.5707963267948966" xyz="-0.0 0.0 0.005"/>
    <parent link="leg1_pusher_servo_horn"/>
    <child link="leg1_horn_sleeve"/>
  </joint>
  <joint name="leg1_sleeve_to_arm" type="revolute">
    <origin rpy="-1.5707963267948966 0.0 1.5707963267948966" xyz="0.0212344 -0.0 0.0039878"/>
    <parent link="leg1_horn_sleeve"/>
    <child link="leg1_actuator_arm"/>
    <axis xyz="0.0 1.0 0.0"/>
    <limit effort="1000" lower="-3" upper="3" velocity="1.0"/>
  </joint>
  <joint name="leg1_cylinder_to_arm" type="revolute">
    <origin rpy="1.5707963267948966 0.0 0.0" xyz="-0.0 -0.0033 -0.046"/>
    <parent link="leg1_actuator_arm"/>
    <child link="leg1_sliding_cylinder"/>
    <axis xyz="0.0 0.0 1.0"/>
    <limit effort="1000" lower="-3" upper="3" velocity="1.0"/>
  </joint>
  <joint name="leg1_cylinder_to_wheels" type="continuous">
    <origin rpy="0 0.0 3.141592653589793" xyz="-0.0 -0.0405 -0.0"/>
    <parent link="leg1_sliding_cylinder"/>
    <child link="leg1_wheels"/>
    <axis   xyz="0 1 0"/>
  </joint>
  <!-- joining link1 and link2 -->
  <link name="leg1_servo_horn">
    <visual>
      <geometry>
        <mesh filename="meshes/non_printed/18T_servo_horn.stl" scale="0.001 0.001 0.001"/>
      </geometry>
      <material name="leg1_servo_horn_purple">
        <color rgba="0.490 0.086 0.557 1.0"/>
      </material>
    </visual>
    <collision>
      <geometry>
        <mesh filename="meshes/non_printed/18T_servo_horn.stl" scale="0.001 0.001 0.001"/>
      </geometry>
    </collision>
    <inertial>
      <origin rpy="0 0 0" xyz="0 -0.0105 0.002"/>
      <mass value="0.0059"/>
      <!-- Converted from 0.013 lb to kg -->
      <inertia ixx="8.7107e-07" ixy="0" ixz="0" iyy="1.0047e-07" iyz="0" izz="8.7107e-07"/>
    </inertial>
  </link>
  <joint name="leg1_link1_to_joint" type="revolute">
    <origin rpy="0 0 1.2915436467948966" xyz="0.019 -0.0 0.0245"/>
    <parent link="servo_leg1_link1"/>
    <child link="leg1_servo_horn"/>
    <axis xyz="0 0 1"/>
    <limit effort="1000" lower="-2.356" upper="2.356" velocity="1"/>
  </joint>
  <joint name="leg1_joint_to_link2" type="fixed">
    <origin rpy="1.5707963267948966 3.141592653589793 -1.5707963267948966" xyz="0.005 0.005 -0.028"/>
    <parent link="leg1_servo_horn"/>
    <child link="leg1_link2_p1"/>
  </joint>
  <!-- joining to the base -->
  <joint name="leg1_link1_to_frame" type="fixed">
    <origin rpy="1.5707963267948966 3.141592653589793 -1.5707963267948966" xyz="0.005 0.005 -0.028"/>
    <parent link="first_servo_horn"/>
    <child link="leg1_link1"/>
  </joint>
  <!-- link2 -->
  <link name="leg2_link2_p1">
    <visual>
      <geometry>
        <mesh filename="meshes/legs/link2p1.stl" scale="0.001 0.001 0.001"/>
      </geometry>
      <material name="leg2_link2_p1_blue">
        <color rgba="0.231 0.380 0.706 1.0"/>
      </material>
    </visual>
    <collision>
      <geometry>
        <mesh filename="meshes/legs/link2p1.stl" scale="0.001 0.001 0.001"/>
      </geometry>
    </collision>
    <inertial>
      <origin rpy="0 0 0" xyz="-0.0621 2.54e-5 0.003429"/>
      <mass value="0.1293"/>
      <!-- Converted from 0.285 lb to kg -->
      <inertia ixx="1.764e-04" ixy="-2.119e-08" ixz="-8.423e-06" iyy="1.867e-04" iyz="-8.423e-09" izz="5.007e-04"/>
    </inertial>
  </link>
  <link name="leg2_link2_p2">
    <visual>
      <geometry>
        <mesh filename="meshes/legs/link2p2.stl" scale="0.001 0.001 0.001"/>
      </geometry>
      <material name="leg2_link2_p2_yellow">
        <color rgba="0.980 0.714 0.004 1.0"/>
      </material>
    </visual>
    <collision>
      <geometry>
        <mesh filename="meshes/legs/link2p2.stl" scale="0.001 0.001 0.001"/>
      </geometry>
    </collision>
    <inertial>
      <origin rpy="0 0 0" xyz="-0.1733 0 0.00907"/>
      <mass value="0.0558"/>
      <!-- Converted from 0.123 lb to kg -->
      <inertia ixx="6.069e-05" ixy="2.948e-13" ixz="1.421e-05" iyy="8.219e-05" iyz="-1.754e-13" izz="1.873e-04"/>
    </inertial>
  </link>
  <link name="leg2_link2_p3">
    <visual>
      <geometry>
        <mesh filename="meshes/legs/link2p3.stl" scale="0.001 0.001 0.001"/>
      </geometry>
      <material name="leg2_link2_p3_yellow">
        <color rgba="0.980 0.714 0.004 1.0"/>
      </material>
    </visual>
    <collision>
      <geometry>
        <mesh filename="meshes/legs/link2p3.stl" scale="0.001 0.001 0.001"/>
      </geometry>
    </collision>
    <inertial>
      <origin rpy="0 0 0" xyz="0 0 -0.017123"/>
      <mass value="0.01089"/>
      <!-- Converted from 0.024 lb to kg -->
      <inertia ixx="1.505e-06" ixy="0" ixz="0" iyy="1.505e-06" iyz="0" izz="3.393e-07"/>
    </inertial>
  </link>
  <joint name="leg2_link2_p1_to_p2" type="fixed">
    <origin rpy="0.0 0.0 0.0" xyz="0.0 0.0 0.0"/>
    <parent link="leg2_link2_p1"/>
    <child link="leg2_link2_p2"/>
  </joint>
  <joint name="leg2_link2_p2_to_p3" type="fixed">
    <origin rpy="0.0 1.5707963267948966 0.0" xyz="-0.220 0.0 0.006"/>
    <parent link="leg2_link2_p2"/>
    <child link="leg2_link2_p3"/>
  </joint>
  <link name="leg2_pusher_servo_mount">
    <visual>
      <geometry>
        <mesh filename="meshes/legs/pusher_servo_mount.stl" scale="0.001 0.001 0.001"/>
      </geometry>
      <material name="leg2_pusher_servo_mount_yellow">
        <color rgba="0.980 0.714 0.004 1.0"/>
      </material>
    </visual>
    <collision>
      <geometry>
        <mesh filename="meshes/legs/pusher_servo_mount.stl" scale="0.001 0.001 0.001"/>
      </geometry>
    </collision>
    <inertial>
      <origin rpy="0 0 0" xyz="0 0 0.00509"/>
      <mass value="0.02676"/>
      <!-- Converted from 0.059 lb to kg -->
      <inertia ixx="4.583e-06" ixy="-2.610e-08" ixz="0" iyy="1.544e-05" iyz="0" izz="1.939e-05"/>
    </inertial>
  </link>
  <joint name="leg2_pusher_servo_mount_to_link2" type="fixed">
    <origin rpy="0.0 0.0 1.5707963267948966" xyz="-0.147 0.0 0.012"/>
    <parent link="leg2_link2_p2"/>
    <child link="leg2_pusher_servo_mount"/>
  </joint>
  <link name="leg2_pusher_servo">
    <visual>
      <geometry>
        <mesh filename="meshes/non_printed/pusher_servo.stl" scale="0.001 0.001 0.001"/>
      </geometry>
      <material name="leg2_pusher_servo_blue">
        <color rgba="0.043 0.216 0.404 1.0"/>
      </material>
    </visual>
    <collision>
      <geometry>
        <mesh filename="meshes/non_printed/pusher_servo.stl" scale="0.001 0.001 0.001"/>
      </geometry>
    </collision>
    <inertial>
      <origin rpy="0 0 0" xyz="2.7e-5 0 2.02e-4"/>
      <mass value="0.2577"/>
      <!-- Converted from 0.568 lb to kg -->
      <inertia ixx="6.3523e-05" ixy="0" ixz="-1.7854e-07" iyy="1.3415e-04" iyz="0" izz="1.1411e-04"/>
    </inertial>
  </link>
  <joint name="leg2_pusher_servo_to_mount" type="fixed">
    <origin rpy="0.0 0.0 -1.5707963267948966" xyz="0.01 -0.0 0.0096"/>
    <parent link="leg2_pusher_servo_mount"/>
    <child link="leg2_pusher_servo"/>
  </joint>
  <!-- link1 -->
  <link name="servo_leg2_link1">
    <visual>
      <geometry>
        <mesh filename="meshes/non_printed/60_kg_servo.stl" scale="0.001 0.001 0.001"/>
      </geometry>
      <material name="servo_leg2_link1_blue">
        <color rgba="0.043 0.216 0.404 1.0"/>
      </material>
    </visual>
    <collision>
      <geometry>
        <mesh filename="meshes/non_printed/60_kg_servo.stl" scale="0.001 0.001 0.001"/>
      </geometry>
    </collision>
    <inertial>
      <origin rpy="0 0 0" xyz="2.7e-5 0 2.02e-4"/>
      <mass value="0.2577"/>
      <!-- Converted from 0.568 lb to kg -->
      <inertia ixx="6.3523e-05" ixy="0" ixz="-1.7854e-07" iyy="1.3415e-04" iyz="0" izz="1.1411e-04"/>
    </inertial>
  </link>
  <link name="servo_mount_leg2_link1">
    <visual>
      <geometry>
        <mesh filename="meshes/legs/servo_mount_slotted_60kg.stl" scale="0.001 0.001 0.001"/>
      </geometry>
      <material name="servo_mount_leg2_link1_blue">
        <color rgba="0.231 0.380 0.706 1.0"/>
      </material>
    </visual>
    <collision>
      <geometry>
        <mesh filename="meshes/legs/servo_mount_slotted_60kg.stl" scale="0.001 0.001 0.001"/>
      </geometry>
    </collision>
    <inertial>
      <origin rpy="0 0 0" xyz="-8.34e-7 -0.003997 0.010335"/>
      <mass value="0.0885"/>
      <!-- Converted from 0.195 lb to kg -->
      <inertia ixx="8.314e-05" ixy="4.975e-08" ixz="4.666e-09" iyy="2.774e-05" iyz="1.256e-06" izz="8.654e-05"/>
    </inertial>
  </link>
  <joint name="leg2_link1_servo_to_mount" type="fixed">
    <origin rpy="0.0 0.0 1.5707963267948966" xyz="0.0 0.0 0.0278"/>
    <parent link="servo_mount_leg2_link1"/>
    <child link="servo_leg2_link1"/>
  </joint>
  <link name="leg2_link1">
    <visual>
      <geometry>
        <mesh filename="meshes/legs/link1.stl" scale="0.001 0.001 0.001"/>
      </geometry>
      <material name="leg2_link1_blue">
        <color rgba="0.231 0.380 0.706 1.0"/>
      </material>
    </visual>
    <collision>
      <geometry>
        <mesh filename="meshes/legs/link1.stl" scale="0.001 0.001 0.001"/>
      </geometry>
    </collision>
    <inertial>
      <origin rpy="0 0 0" xyz="-0.0416 0.000229 0.00599"/>
      <mass value="0.0685"/>
      <!-- Converted from 0.151 lb to kg -->
      <inertia ixx="8.657e-05" ixy="5.807e-07" ixz="-1.833e-13" iyy="3.632e-05" iyz="1.345e-14" izz="1.147e-04"/>
    </inertial>
  </link>
  <joint name="leg2_link1_to_servo" type="fixed">
    <origin rpy="0.0 1.5707963267948966 1.5707963267948966" xyz="-0.123 -0.031 0.0065"/>
    <parent link="leg2_link1"/>
    <child link="servo_mount_leg2_link1"/>
  </joint>
  <!-- horn -->
  <link name="leg2_horn_sleeve">
    <visual>
      <geometry>
        <mesh filename="meshes/legs/horn_sleeve.stl" scale="0.001 0.001 0.001"/>
      </geometry>
      <material name="leg2_horn_sleeve_yellow">
        <color rgba="0.980 0.714 0.004 1.0"/>
      </material>
    </visual>
    <collision>
      <geometry>
        <mesh filename="meshes/legs/horn_sleeve.stl" scale="0.001 0.001 0.001"/>
      </geometry>
    </collision>
    <inertial>
      <origin rpy="0 0 0" xyz="0.0105 0 0.0032"/>
      <mass value="0.00136"/>
      <!-- Converted from 0.003 lb to kg -->
      <inertia ixx="2.231e-08" ixy="0" ixz="3.528e-09" iyy="6.996e-08" iyz="0" izz="7.931e-08"/>
    </inertial>
  </link>
  <link name="leg2_actuator_arm">
    <visual>
      <geometry>
        <mesh filename="meshes/legs/actuator_arm.stl" scale="0.001 0.001 0.001"/>
      </geometry>
      <material name="leg2_actuator_arm_yellow">
        <color rgba="0.980 0.714 0.004 1.0"/>
      </material>
    </visual>
    <collision>
      <geometry>
        <mesh filename="meshes/legs/actuator_arm.stl" scale="0.001 0.001 0.001"/>
      </geometry>
    </collision>
    <inertial>
      <origin rpy="0 0 0" xyz="0 -0.00246 -0.02169"/>
      <mass value="0.00227"/>
      <!-- Converted from 0.005 lb to kg -->
      <inertia ixx="2.904e-07" ixy="0" ixz="0" iyy="2.904e-07" iyz="-1.516e-09" izz="1.669e-08"/>
    </inertial>
  </link>
  <link name="leg2_pusher_servo_horn">
    <visual>
      <geometry>
        <mesh filename="meshes/non_printed/pusher_servo_horn.stl" scale="0.001 0.001 0.001"/>
      </geometry>
      <material name="leg2_pusher_servo_horn_black">
        <color rgba="0.0 0.0 0.0 1.0"/>
      </material>
    </visual>
    <collision>
      <geometry>
        <mesh filename="meshes/non_printed/pusher_servo_horn.stl" scale="0.001 0.001 0.001"/>
      </geometry>
    </collision>
    <inertial>
      <origin rpy="0 0 0" xyz="0 0.000381 0.000991"/>
      <mass value="0.000907"/>
      <!-- Converted from 0.002 lb to kg -->
      <inertia ixx="4.566e-08" ixy="0" ixz="0" iyy="7.847e-09" iyz="0" izz="5.278e-08"/>
    </inertial>
  </link>
  <link name="leg2_sliding_cylinder">
    <visual>
      <geometry>
        <mesh filename="meshes/legs/sliding_cylinder.stl" scale="0.001 0.001 0.001"/>
      </geometry>
      <material name="leg2_sliding_cylinder_blue">
        <color rgba="0.231 0.380 0.706 1.0"/>
      </material>
    </visual>
    <collision>
      <geometry>
        <mesh filename="meshes/legs/sliding_cylinder.stl" scale="0.001 0.001 0.001"/>
      </geometry>
    </collision>
    <inertial>
      <origin rpy="0 0 0" xyz="1.958e-9 -0.01674 2.54e-5"/>
      <mass value="0.00998"/>
      <!-- Converted from 0.022 lb to kg -->
      <inertia ixx="1.747e-06" ixy="-1.879e-10" ixz="-4.794e-09" iyy="2.903e-07" iyz="-1.288e-09" izz="1.747e-06"/>
    </inertial>
  </link>
  <link name="leg2_wheels">
    <visual>
      <geometry>
        <mesh filename="meshes/non_printed/metal_bearing.stl" scale="0.001 0.001 0.001"/>
      </geometry>
      <material name="leg2_wheels_silver">
        <color rgba="0.9176 0.9176 0.9176 1.0"/>
      </material>
    </visual>
    <collision>
      <geometry>
        <mesh filename="meshes/non_printed/metal_bearing.stl" scale="0.001 0.001 0.001"/>
      </geometry>
    </collision>
    <inertial>
      <origin rpy="0 0 0" xyz="0 0.01198 0"/>
      <mass value="0.0957"/>
      <!-- Converted from 0.211 lb to kg -->
      <inertia ixx="1.629e-05" ixy="0" ixz="0" iyy="1.979e-05" iyz="0" izz="1.629e-05"/>
    </inertial>
  </link>
  <joint name="leg2_servo_to_horn" type="revolute">
    <origin rpy="0.0 0.0 1.5707963267948966" xyz="0.0075 -0.01 0.02"/>
    <parent link="leg2_pusher_servo"/>
    <child link="leg2_pusher_servo_horn"/>
    <axis xyz="0.0 0.0 1.0"/>
    <limit effort="1000" lower="-1.5707963267948966" upper="1.5707963267948966" velocity="1.0"/>
  </joint>
  <joint name="leg2_servo_horn_to_sleeve" type="fixed">
    <origin rpy="3.141592653589793 0.0 1.5707963267948966" xyz="-0.0 0.0 0.005"/>
    <parent link="leg2_pusher_servo_horn"/>
    <child link="leg2_horn_sleeve"/>
  </joint>
  <joint name="leg2_sleeve_to_arm" type="revolute">
    <origin rpy="-1.5707963267948966 0.0 1.5707963267948966" xyz="0.0212344 -0.0 0.0039878"/>
    <parent link="leg2_horn_sleeve"/>
    <child link="leg2_actuator_arm"/>
    <axis xyz="0.0 1.0 0.0"/>
    <limit effort="1000" lower="-3" upper="3" velocity="1.0"/>
  </joint>
  <joint name="leg2_cylinder_to_arm" type="revolute">
    <origin rpy="1.5707963267948966 0.0 0.0" xyz="-0.0 -0.0033 -0.046"/>
    <parent link="leg2_actuator_arm"/>
    <child link="leg2_sliding_cylinder"/>
    <axis xyz="0.0 0.0 1.0"/>
    <limit effort="1000" lower="-3" upper="3" velocity="1.0"/>
  </joint>
  <joint name="leg2_cylinder_to_wheels" type="continuous">
    <origin rpy="0 0.0 3.141592653589793" xyz="-0.0 -0.0405 -0.0"/>
    <parent link="leg2_sliding_cylinder"/>
    <child link="leg2_wheels"/>
    <axis xyz="0.0 1.0 0.0"/>
  </joint>
  <!-- joining link1 and link2 -->
  <link name="leg2_servo_horn">
    <visual>
      <geometry>
        <mesh filename="meshes/non_printed/18T_servo_horn.stl" scale="0.001 0.001 0.001"/>
      </geometry>
      <material name="leg2_servo_horn_purple">
        <color rgba="0.490 0.086 0.557 1.0"/>
      </material>
    </visual>
    <collision>
      <geometry>
        <mesh filename="meshes/non_printed/18T_servo_horn.stl" scale="0.001 0.001 0.001"/>
      </geometry>
    </collision>
    <inertial>
      <origin rpy="0 0 0" xyz="0 -0.0105 0.002"/>
      <mass value="0.0059"/>
      <!-- Converted from 0.013 lb to kg -->
      <inertia ixx="8.7107e-07" ixy="0" ixz="0" iyy="1.0047e-07" iyz="0" izz="8.7107e-07"/>
    </inertial>
  </link>
  <joint name="leg2_link1_to_joint" type="revolute">
    <origin rpy="0 0 1.2915436467948966" xyz="0.019 -0.0 0.0245"/>
    <parent link="servo_leg2_link1"/>
    <child link="leg2_servo_horn"/>
    <axis xyz="0 0 1"/>
    <limit effort="1000" lower="-2.356" upper="2.356" velocity="1"/>
  </joint>
  <joint name="leg2_joint_to_link2" type="fixed">
    <origin rpy="1.5707963267948966 3.141592653589793 -1.5707963267948966" xyz="0.005 0.005 -0.028"/>
    <parent link="leg2_servo_horn"/>
    <child link="leg2_link2_p1"/>
  </joint>
  <!-- joining to the base -->
  <joint name="leg2_link1_to_frame" type="fixed">
    <origin rpy="1.5707963267948966 3.141592653589793 -1.5707963267948966" xyz="0.005 0.005 -0.028"/>
    <parent link="second_servo_horn"/>
    <child link="leg2_link1"/>
  </joint>
  <!-- link2 -->
  <link name="leg3_link2_p1">
    <visual>
      <geometry>
        <mesh filename="meshes/legs/link2p1.stl" scale="0.001 0.001 0.001"/>
      </geometry>
      <material name="leg3_link2_p1_blue">
        <color rgba="0.231 0.380 0.706 1.0"/>
      </material>
    </visual>
    <collision>
      <geometry>
        <mesh filename="meshes/legs/link2p1.stl" scale="0.001 0.001 0.001"/>
      </geometry>
    </collision>
    <inertial>
      <origin rpy="0 0 0" xyz="-0.0621 2.54e-5 0.003429"/>
      <mass value="0.1293"/>
      <!-- Converted from 0.285 lb to kg -->
      <inertia ixx="1.764e-04" ixy="-2.119e-08" ixz="-8.423e-06" iyy="1.867e-04" iyz="-8.423e-09" izz="5.007e-04"/>
    </inertial>
  </link>
  <link name="leg3_link2_p2">
    <visual>
      <geometry>
        <mesh filename="meshes/legs/link2p2.stl" scale="0.001 0.001 0.001"/>
      </geometry>
      <material name="leg3_link2_p2_yellow">
        <color rgba="0.980 0.714 0.004 1.0"/>
      </material>
    </visual>
    <collision>
      <geometry>
        <mesh filename="meshes/legs/link2p2.stl" scale="0.001 0.001 0.001"/>
      </geometry>
    </collision>
    <inertial>
      <origin rpy="0 0 0" xyz="-0.1733 0 0.00907"/>
      <mass value="0.0558"/>
      <!-- Converted from 0.123 lb to kg -->
      <inertia ixx="6.069e-05" ixy="2.948e-13" ixz="1.421e-05" iyy="8.219e-05" iyz="-1.754e-13" izz="1.873e-04"/>
    </inertial>
  </link>
  <link name="leg3_link2_p3">
    <visual>
      <geometry>
        <mesh filename="meshes/legs/link2p3.stl" scale="0.001 0.001 0.001"/>
      </geometry>
      <material name="leg3_link2_p3_yellow">
        <color rgba="0.980 0.714 0.004 1.0"/>
      </material>
    </visual>
    <collision>
      <geometry>
        <mesh filename="meshes/legs/link2p3.stl" scale="0.001 0.001 0.001"/>
      </geometry>
    </collision>
    <inertial>
      <origin rpy="0 0 0" xyz="0 0 -0.017123"/>
      <mass value="0.01089"/>
      <!-- Converted from 0.024 lb to kg -->
      <inertia ixx="1.505e-06" ixy="0" ixz="0" iyy="1.505e-06" iyz="0" izz="3.393e-07"/>
    </inertial>
  </link>
  <joint name="leg3_link2_p1_to_p2" type="fixed">
    <origin rpy="0.0 0.0 0.0" xyz="0.0 0.0 0.0"/>
    <parent link="leg3_link2_p1"/>
    <child link="leg3_link2_p2"/>
  </joint>
  <joint name="leg3_link2_p2_to_p3" type="fixed">
    <origin rpy="0.0 1.5707963267948966 0.0" xyz="-0.220 0.0 0.006"/>
    <parent link="leg3_link2_p2"/>
    <child link="leg3_link2_p3"/>
  </joint>
  <link name="leg3_pusher_servo_mount">
    <visual>
      <geometry>
        <mesh filename="meshes/legs/pusher_servo_mount.stl" scale="0.001 0.001 0.001"/>
      </geometry>
      <material name="leg3_pusher_servo_mount_yellow">
        <color rgba="0.980 0.714 0.004 1.0"/>
      </material>
    </visual>
    <collision>
      <geometry>
        <mesh filename="meshes/legs/pusher_servo_mount.stl" scale="0.001 0.001 0.001"/>
      </geometry>
    </collision>
    <inertial>
      <origin rpy="0 0 0" xyz="0 0 0.00509"/>
      <mass value="0.02676"/>
      <!-- Converted from 0.059 lb to kg -->
      <inertia ixx="4.583e-06" ixy="-2.610e-08" ixz="0" iyy="1.544e-05" iyz="0" izz="1.939e-05"/>
    </inertial>
  </link>
  <joint name="leg3_pusher_servo_mount_to_link2" type="fixed">
    <origin rpy="0.0 0.0 1.5707963267948966" xyz="-0.147 0.0 0.012"/>
    <parent link="leg3_link2_p2"/>
    <child link="leg3_pusher_servo_mount"/>
  </joint>
  <link name="leg3_pusher_servo">
    <visual>
      <geometry>
        <mesh filename="meshes/non_printed/pusher_servo.stl" scale="0.001 0.001 0.001"/>
      </geometry>
      <material name="leg3_pusher_servo_blue">
        <color rgba="0.043 0.216 0.404 1.0"/>
      </material>
    </visual>
    <collision>
      <geometry>
        <mesh filename="meshes/non_printed/pusher_servo.stl" scale="0.001 0.001 0.001"/>
      </geometry>
    </collision>
    <inertial>
      <origin rpy="0 0 0" xyz="2.7e-5 0 2.02e-4"/>
      <mass value="0.2577"/>
      <!-- Converted from 0.568 lb to kg -->
      <inertia ixx="6.3523e-05" ixy="0" ixz="-1.7854e-07" iyy="1.3415e-04" iyz="0" izz="1.1411e-04"/>
    </inertial>
  </link>
  <joint name="leg3_pusher_servo_to_mount" type="fixed">
    <origin rpy="0.0 0.0 -1.5707963267948966" xyz="0.01 -0.0 0.0096"/>
    <parent link="leg3_pusher_servo_mount"/>
    <child link="leg3_pusher_servo"/>
  </joint>
  <!-- link1 -->
  <link name="servo_leg3_link1">
    <visual>
      <geometry>
        <mesh filename="meshes/non_printed/60_kg_servo.stl" scale="0.001 0.001 0.001"/>
      </geometry>
      <material name="servo_leg3_link1_blue">
        <color rgba="0.043 0.216 0.404 1.0"/>
      </material>
    </visual>
    <collision>
      <geometry>
        <mesh filename="meshes/non_printed/60_kg_servo.stl" scale="0.001 0.001 0.001"/>
      </geometry>
    </collision>
    <inertial>
      <origin rpy="0 0 0" xyz="2.7e-5 0 2.02e-4"/>
      <mass value="0.2577"/>
      <!-- Converted from 0.568 lb to kg -->
      <inertia ixx="6.3523e-05" ixy="0" ixz="-1.7854e-07" iyy="1.3415e-04" iyz="0" izz="1.1411e-04"/>
    </inertial>
  </link>
  <link name="servo_mount_leg3_link1">
    <visual>
      <geometry>
        <mesh filename="meshes/legs/servo_mount_slotted_60kg.stl" scale="0.001 0.001 0.001"/>
      </geometry>
      <material name="servo_mount_leg3_link1_blue">
        <color rgba="0.231 0.380 0.706 1.0"/>
      </material>
    </visual>
    <collision>
      <geometry>
        <mesh filename="meshes/legs/servo_mount_slotted_60kg.stl" scale="0.001 0.001 0.001"/>
      </geometry>
    </collision>
    <inertial>
      <origin rpy="0 0 0" xyz="-8.34e-7 -0.003997 0.010335"/>
      <mass value="0.0885"/>
      <!-- Converted from 0.195 lb to kg -->
      <inertia ixx="8.314e-05" ixy="4.975e-08" ixz="4.666e-09" iyy="2.774e-05" iyz="1.256e-06" izz="8.654e-05"/>
    </inertial>
  </link>
  <joint name="leg3_link1_servo_to_mount" type="fixed">
    <origin rpy="0.0 0.0 1.5707963267948966" xyz="0.0 0.0 0.0278"/>
    <parent link="servo_mount_leg3_link1"/>
    <child link="servo_leg3_link1"/>
  </joint>
  <link name="leg3_link1">
    <visual>
      <geometry>
        <mesh filename="meshes/legs/link1.stl" scale="0.001 0.001 0.001"/>
      </geometry>
      <material name="leg3_link1_blue">
        <color rgba="0.231 0.380 0.706 1.0"/>
      </material>
    </visual>
    <collision>
      <geometry>
        <mesh filename="meshes/legs/link1.stl" scale="0.001 0.001 0.001"/>
      </geometry>
    </collision>
    <inertial>
      <origin rpy="0 0 0" xyz="-0.0416 0.000229 0.00599"/>
      <mass value="0.0685"/>
      <!-- Converted from 0.151 lb to kg -->
      <inertia ixx="8.657e-05" ixy="5.807e-07" ixz="-1.833e-13" iyy="3.632e-05" iyz="1.345e-14" izz="1.147e-04"/>
    </inertial>
  </link>
  <joint name="leg3_link1_to_servo" type="fixed">
    <origin rpy="0.0 1.5707963267948966 1.5707963267948966" xyz="-0.123 -0.031 0.0065"/>
    <parent link="leg3_link1"/>
    <child link="servo_mount_leg3_link1"/>
  </joint>
  <!-- horn -->
  <link name="leg3_horn_sleeve">
    <visual>
      <geometry>
        <mesh filename="meshes/legs/horn_sleeve.stl" scale="0.001 0.001 0.001"/>
      </geometry>
      <material name="leg3_horn_sleeve_yellow">
        <color rgba="0.980 0.714 0.004 1.0"/>
      </material>
    </visual>
    <collision>
      <geometry>
        <mesh filename="meshes/legs/horn_sleeve.stl" scale="0.001 0.001 0.001"/>
      </geometry>
    </collision>
    <inertial>
      <origin rpy="0 0 0" xyz="0.0105 0 0.0032"/>
      <mass value="0.00136"/>
      <!-- Converted from 0.003 lb to kg -->
      <inertia ixx="2.231e-08" ixy="0" ixz="3.528e-09" iyy="6.996e-08" iyz="0" izz="7.931e-08"/>
    </inertial>
  </link>
  <link name="leg3_actuator_arm">
    <visual>
      <geometry>
        <mesh filename="meshes/legs/actuator_arm.stl" scale="0.001 0.001 0.001"/>
      </geometry>
      <material name="leg3_actuator_arm_yellow">
        <color rgba="0.980 0.714 0.004 1.0"/>
      </material>
    </visual>
    <collision>
      <geometry>
        <mesh filename="meshes/legs/actuator_arm.stl" scale="0.001 0.001 0.001"/>
      </geometry>
    </collision>
    <inertial>
      <origin rpy="0 0 0" xyz="0 -0.00246 -0.02169"/>
      <mass value="0.00227"/>
      <!-- Converted from 0.005 lb to kg -->
      <inertia ixx="2.904e-07" ixy="0" ixz="0" iyy="2.904e-07" iyz="-1.516e-09" izz="1.669e-08"/>
    </inertial>
  </link>
  <link name="leg3_pusher_servo_horn">
    <visual>
      <geometry>
        <mesh filename="meshes/non_printed/pusher_servo_horn.stl" scale="0.001 0.001 0.001"/>
      </geometry>
      <material name="leg3_pusher_servo_horn_black">
        <color rgba="0.0 0.0 0.0 1.0"/>
      </material>
    </visual>
    <collision>
      <geometry>
        <mesh filename="meshes/non_printed/pusher_servo_horn.stl" scale="0.001 0.001 0.001"/>
      </geometry>
    </collision>
    <inertial>
      <origin rpy="0 0 0" xyz="0 0.000381 0.000991"/>
      <mass value="0.000907"/>
      <!-- Converted from 0.002 lb to kg -->
      <inertia ixx="4.566e-08" ixy="0" ixz="0" iyy="7.847e-09" iyz="0" izz="5.278e-08"/>
    </inertial>
  </link>
  <link name="leg3_sliding_cylinder">
    <visual>
      <geometry>
        <mesh filename="meshes/legs/sliding_cylinder.stl" scale="0.001 0.001 0.001"/>
      </geometry>
      <material name="leg3_sliding_cylinder_blue">
        <color rgba="0.231 0.380 0.706 1.0"/>
      </material>
    </visual>
    <collision>
      <geometry>
        <mesh filename="meshes/legs/sliding_cylinder.stl" scale="0.001 0.001 0.001"/>
      </geometry>
    </collision>
    <inertial>
      <origin rpy="0 0 0" xyz="1.958e-9 -0.01674 2.54e-5"/>
      <mass value="0.00998"/>
      <!-- Converted from 0.022 lb to kg -->
      <inertia ixx="1.747e-06" ixy="-1.879e-10" ixz="-4.794e-09" iyy="2.903e-07" iyz="-1.288e-09" izz="1.747e-06"/>
    </inertial>
  </link>
  <link name="leg3_wheels">
    <visual>
      <geometry>
        <mesh filename="meshes/non_printed/metal_bearing.stl" scale="0.001 0.001 0.001"/>
      </geometry>
      <material name="leg3_wheels_silver">
        <color rgba="0.9176 0.9176 0.9176 1.0"/>
      </material>
    </visual>
    <collision>
      <geometry>
        <mesh filename="meshes/non_printed/metal_bearing.stl" scale="0.001 0.001 0.001"/>
      </geometry>
    </collision>
    <inertial>
      <origin rpy="0 0 0" xyz="0 0.01198 0"/>
      <mass value="0.0957"/>
      <!-- Converted from 0.211 lb to kg -->
      <inertia ixx="1.629e-05" ixy="0" ixz="0" iyy="1.979e-05" iyz="0" izz="1.629e-05"/>
    </inertial>
  </link>
  <joint name="leg3_servo_to_horn" type="revolute">
    <origin rpy="0.0 0.0 1.5707963267948966" xyz="0.0075 -0.01 0.02"/>
    <parent link="leg3_pusher_servo"/>
    <child link="leg3_pusher_servo_horn"/>
    <axis xyz="0.0 0.0 1.0"/>
    <limit effort="1000" lower="-1.5707963267948966" upper="1.5707963267948966" velocity="1.0"/>
  </joint>
  <joint name="leg3_servo_horn_to_sleeve" type="fixed">
    <origin rpy="3.141592653589793 0.0 1.5707963267948966" xyz="-0.0 0.0 0.005"/>
    <parent link="leg3_pusher_servo_horn"/>
    <child link="leg3_horn_sleeve"/>
  </joint>
  <joint name="leg3_sleeve_to_arm" type="revolute">
    <origin rpy="-1.5707963267948966 0.0 1.5707963267948966" xyz="0.0212344 -0.0 0.0039878"/>
    <parent link="leg3_horn_sleeve"/>
    <child link="leg3_actuator_arm"/>
    <axis xyz="0.0 1.0 0.0"/>
    <limit effort="1000" lower="-3" upper="3" velocity="1.0"/>
  </joint>
  <joint name="leg3_cylinder_to_arm" type="revolute">
    <origin rpy="1.5707963267948966 0.0 0.0" xyz="-0.0 -0.0033 -0.046"/>
    <parent link="leg3_actuator_arm"/>
    <child link="leg3_sliding_cylinder"/>
    <axis xyz="0.0 0.0 1.0"/>
    <limit effort="1000" lower="-3" upper="3" velocity="1.0"/>
  </joint>
  <joint name="leg3_cylinder_to_wheels" type="continuous">
    <origin rpy="0 0.0 3.141592653589793" xyz="-0.0 -0.0405 -0.0"/>
    <parent link="leg3_sliding_cylinder"/>
    <child link="leg3_wheels"/>
    <axis xyz="0.0 1.0 0.0"/>
  </joint>
  <!-- joining link1 and link2 -->
  <link name="leg3_servo_horn">
    <visual>
      <geometry>
        <mesh filename="meshes/non_printed/18T_servo_horn.stl" scale="0.001 0.001 0.001"/>
      </geometry>
      <material name="leg3_servo_horn_purple">
        <color rgba="0.490 0.086 0.557 1.0"/>
      </material>
    </visual>
    <collision>
      <geometry>
        <mesh filename="meshes/non_printed/18T_servo_horn.stl" scale="0.001 0.001 0.001"/>
      </geometry>
    </collision>
    <inertial>
      <origin rpy="0 0 0" xyz="0 -0.0105 0.002"/>
      <mass value="0.0059"/>
      <!-- Converted from 0.013 lb to kg -->
      <inertia ixx="8.7107e-07" ixy="0" ixz="0" iyy="1.0047e-07" iyz="0" izz="8.7107e-07"/>
    </inertial>
  </link>
  <joint name="leg3_link1_to_joint" type="revolute">
    <origin rpy="0 0 1.2915436467948966" xyz="0.019 -0.0 0.0245"/>
    <parent link="servo_leg3_link1"/>
    <child link="leg3_servo_horn"/>
    <axis xyz="0 0 1"/>
    <limit effort="1000" lower="-2.356" upper="2.356" velocity="1"/>
  </joint>
  <joint name="leg3_joint_to_link2" type="fixed">
    <origin rpy="1.5707963267948966 3.141592653589793 -1.5707963267948966" xyz="0.005 0.005 -0.028"/>
    <parent link="leg3_servo_horn"/>
    <child link="leg3_link2_p1"/>
  </joint>
  <!-- joining to the base -->
  <joint name="leg3_link1_to_frame" type="fixed">
    <origin rpy="1.5707963267948966 3.141592653589793 -1.5707963267948966" xyz="0.005 0.005 -0.028"/>
    <parent link="third_servo_horn"/>
    <child link="leg3_link1"/>
  </joint>
</robot>
